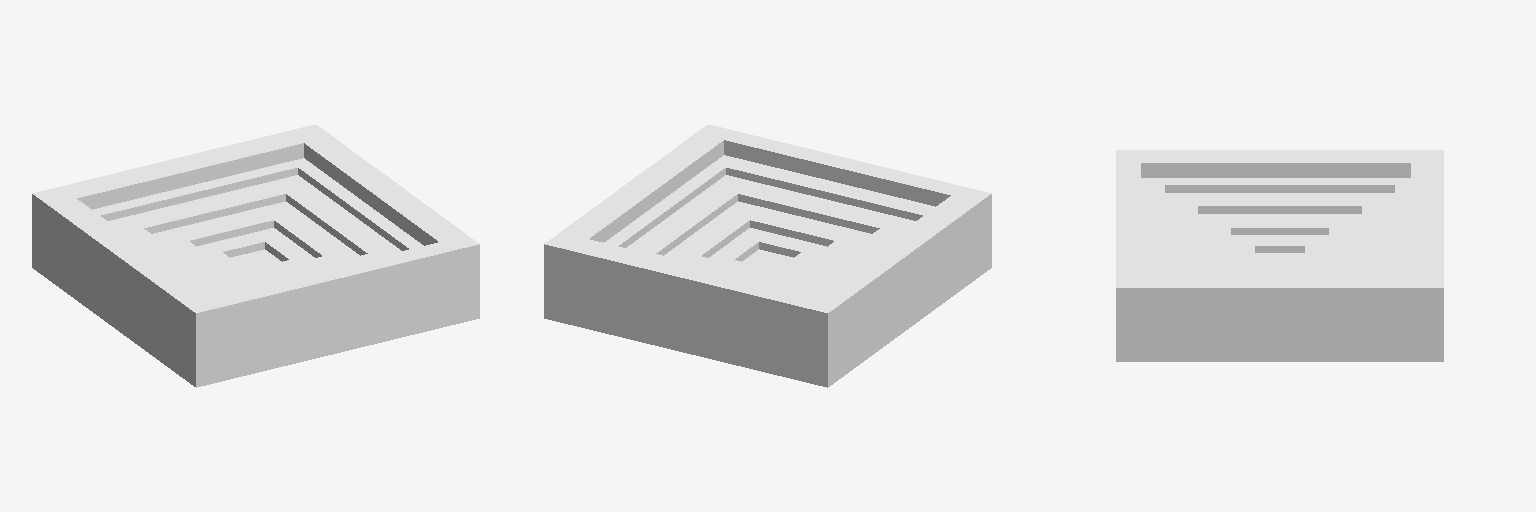
Rendered from cubito_hierba_lento.obj.
3 renders of one model, left to right at view 1: azimuth 30°, elevation 25°; view 2: azimuth 150°, elevation 25°; view 3: azimuth 270°, elevation 25°, orthographic.
Visible parts, largest first — view 1: object 1; view 2: object 1; view 3: object 1.
Part boxes in pixels (x1,y1,x2,y2): object 1: (32, 124, 479, 387); object 1: (544, 124, 991, 387); object 1: (1116, 150, 1443, 361).
Size of the model in its own units: 4 by 1 by 4.